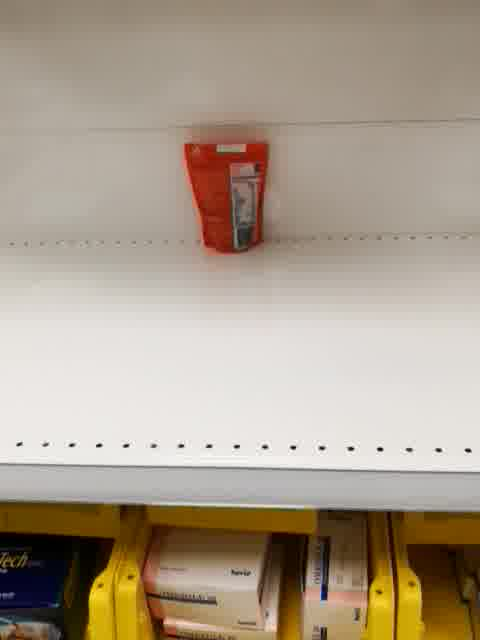whitechia: (182, 133, 271, 257)
